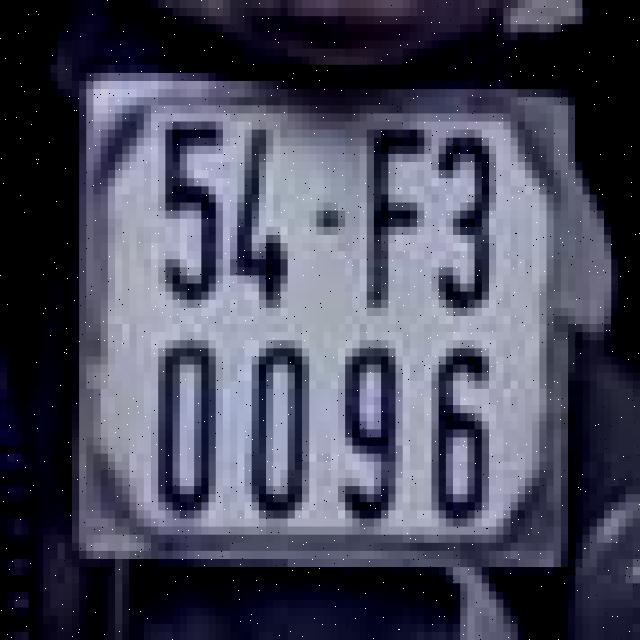0: (148, 328, 226, 523), (238, 336, 316, 531)
3: (432, 130, 504, 316)
4: (230, 117, 302, 312)
5: (147, 105, 241, 316)
6: (421, 340, 514, 535)
9: (327, 332, 414, 535)
F: (356, 113, 435, 316)
